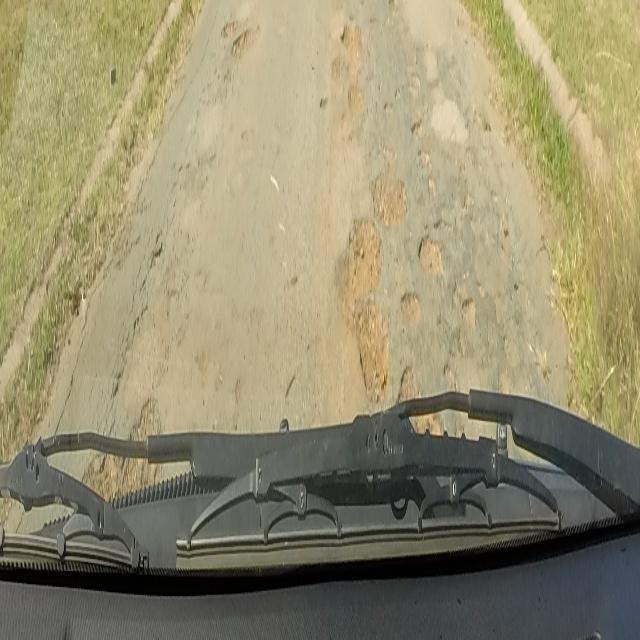pothole: (335, 167, 421, 398), (75, 385, 164, 499), (395, 356, 443, 441), (331, 18, 371, 120), (220, 14, 260, 56), (416, 228, 444, 278), (459, 300, 476, 329)
